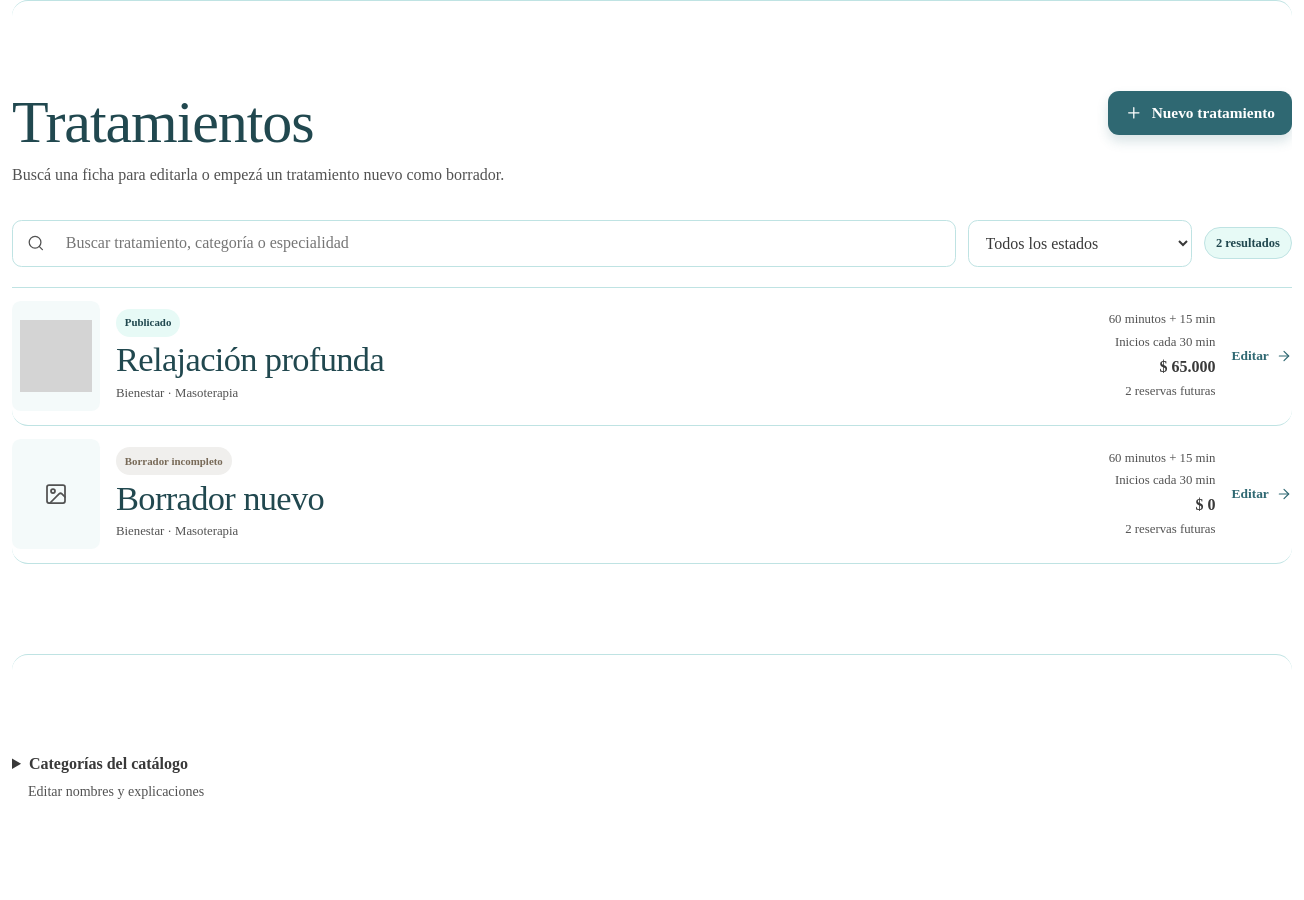
Test case: CatalogAdmin › keeps the list focused and routes editing to dedicated pages
Select "Borradores incompletos" in the dropdown named "Filtrar publicación" at [1080, 243], box [968,220,1192,267]
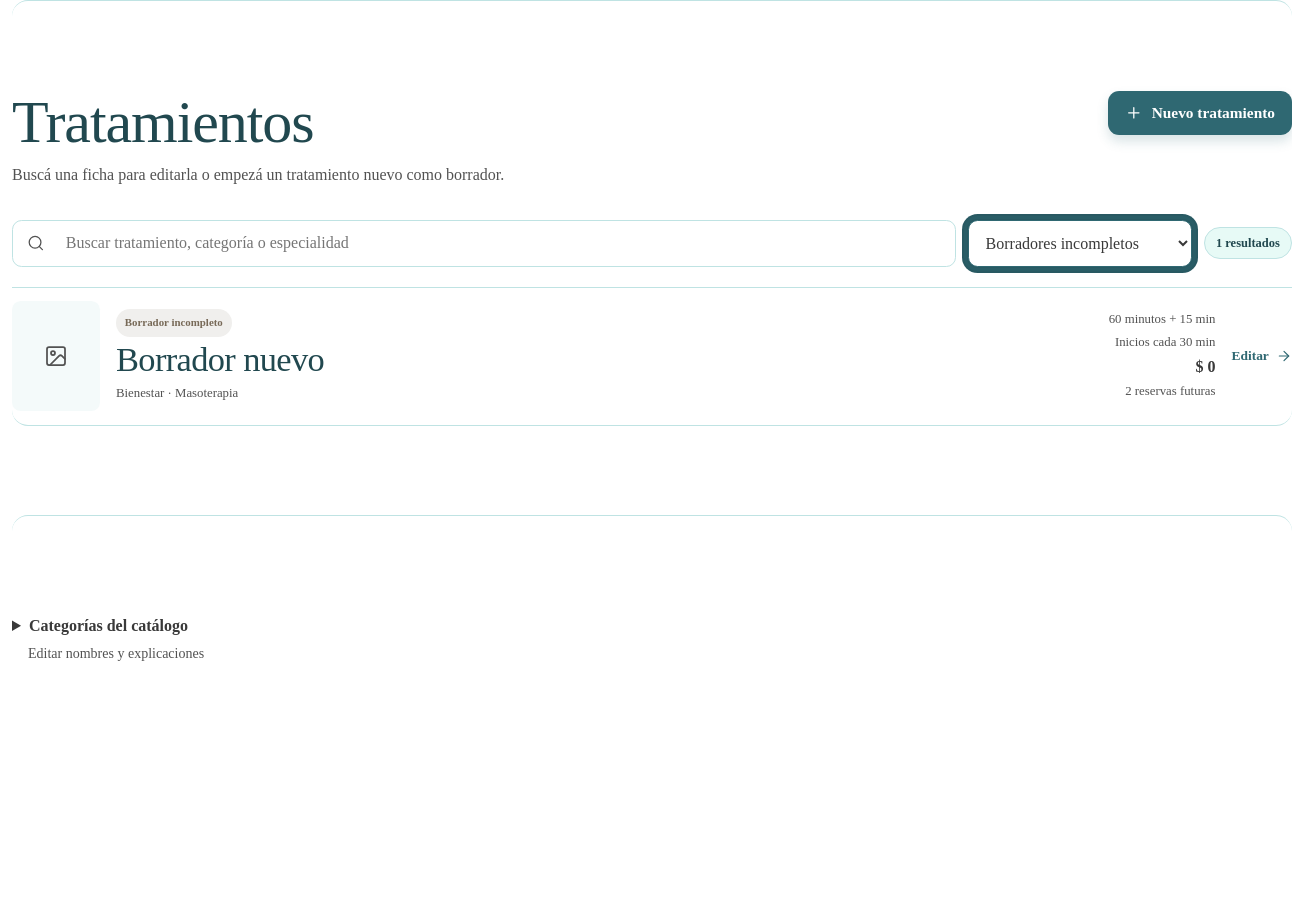
Check: the heading "Borrador nuevo" is shown, box [116,340,324,378]
Check: the link "Relajación profunda" is gone
